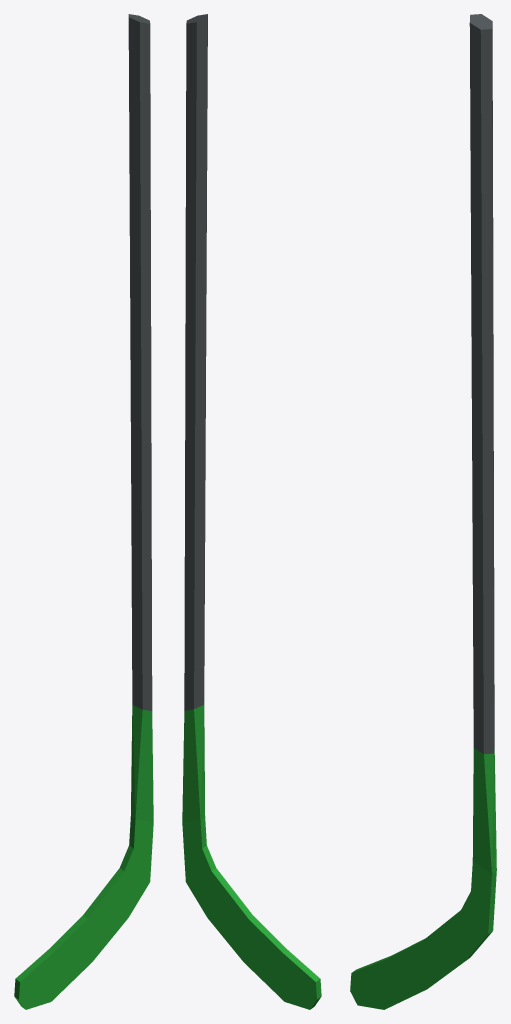
File: Ice_hockey_stick_green.fbx
3 views of the same model, side by side, from view 1: azimuth 30°, elevation 25°; view 2: azimuth 150°, elevation 25°; view 3: azimuth 330°, elevation 25° (orthographic). The views are drawn at different scales.
Parts seen in each view (by area): view 1: Ice_hockey_stick_green; view 2: Ice_hockey_stick_green; view 3: Ice_hockey_stick_green.
Boxes of the visible parts, x1=… form: Ice_hockey_stick_green: x1=14, y1=14, x2=153, y2=1009; Ice_hockey_stick_green: x1=182, y1=14, x2=321, y2=1009; Ice_hockey_stick_green: x1=350, y1=14, x2=496, y2=1009.
Bounding box in the file's own units: 28.25 × 193 × 4.06.
